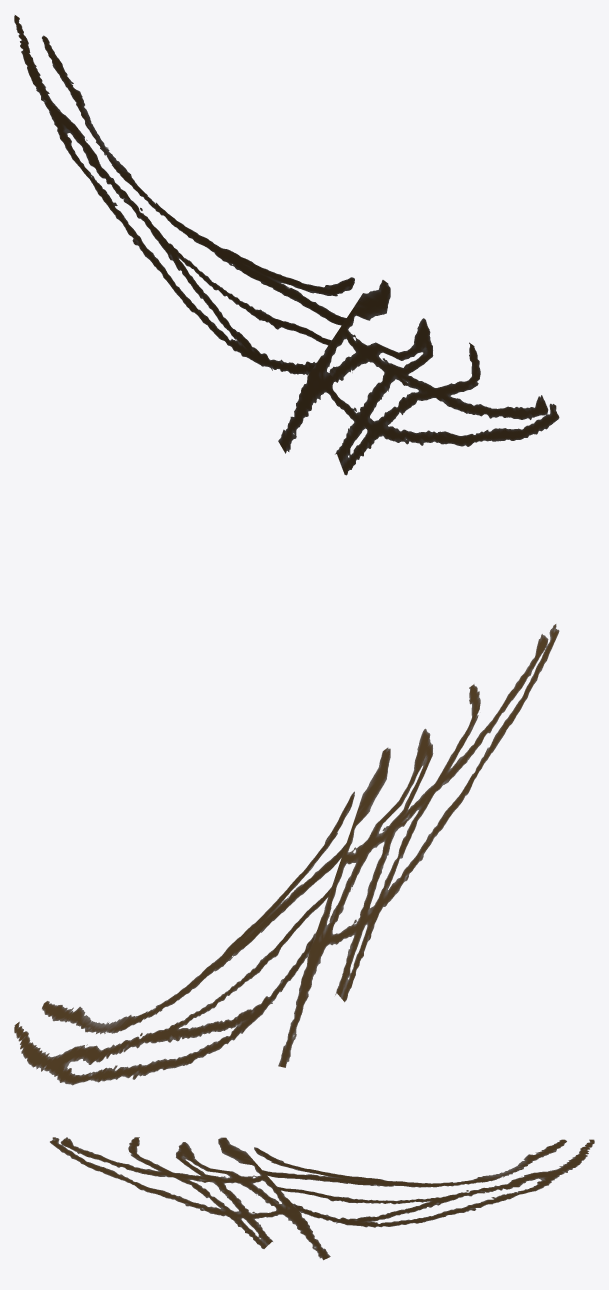
File: SM_Rope_A05.fbx
3 views of the same model, one above another, from view 1: azimuth 30°, elevation 25°; view 2: azimuth 150°, elevation 25°; view 3: azimuth 270°, elevation 25° (orthographic). The views are drawn at different scales.
Visible parts, largest first — view 1: SM_Rope_A05_LOD0; view 2: SM_Rope_A05_LOD0; view 3: SM_Rope_A05_LOD0.
Boxes of the visible parts, box(x1,y1,x2,y2) form: SM_Rope_A05_LOD0: box(14, 15, 559, 475); SM_Rope_A05_LOD0: box(14, 624, 559, 1085); SM_Rope_A05_LOD0: box(50, 1137, 594, 1260).
Size of the model in its own units: 1.6e-05 by 878 by 231.
1 material, 1 textured.
